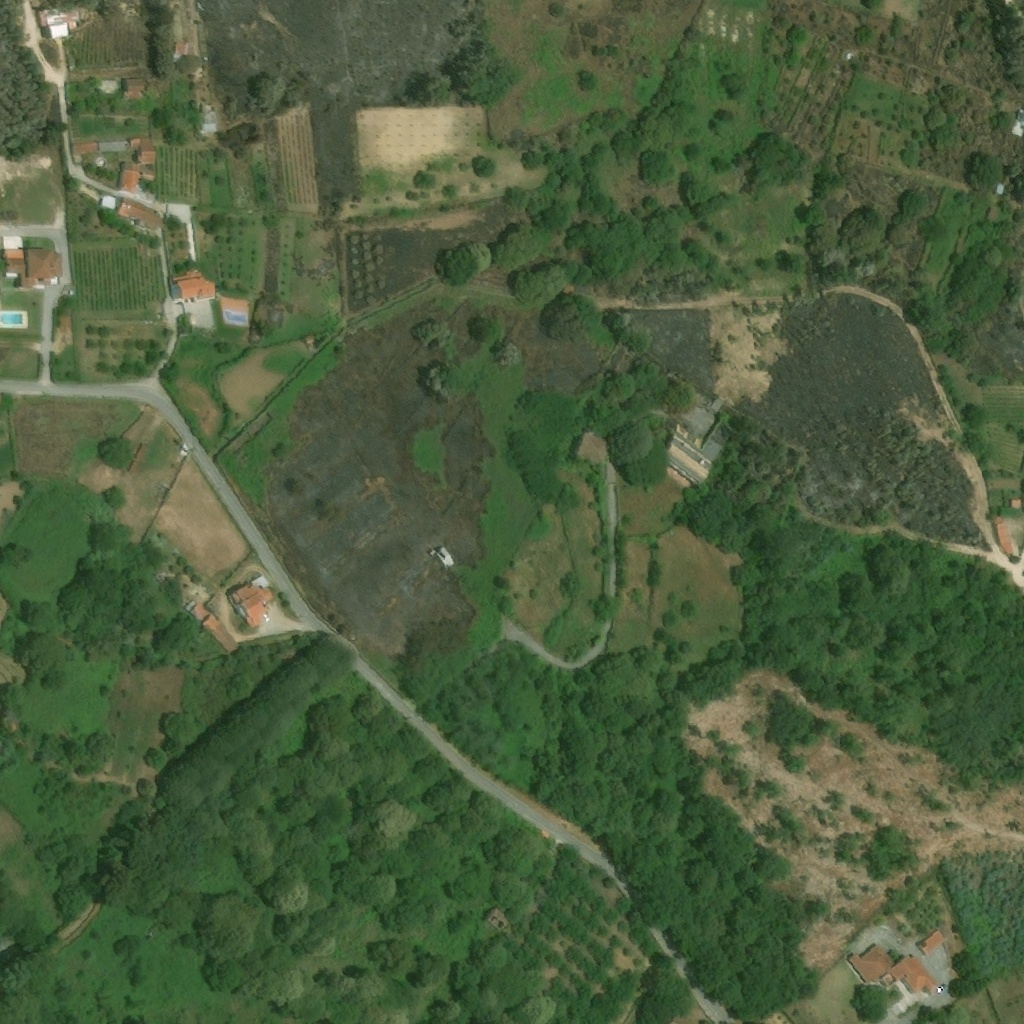0 no-damage: (655, 418, 735, 487), (878, 953, 939, 994), (228, 574, 272, 628), (5, 249, 63, 288), (845, 941, 894, 986), (168, 270, 216, 305), (200, 614, 240, 656), (38, 3, 81, 39), (118, 198, 164, 229), (574, 431, 610, 465), (992, 514, 1012, 558), (118, 161, 141, 192), (199, 99, 218, 136), (918, 929, 945, 955), (138, 137, 156, 164), (435, 546, 456, 569), (123, 78, 147, 98), (71, 138, 100, 153), (98, 137, 126, 151), (189, 603, 209, 621), (1010, 111, 1023, 138), (99, 80, 119, 94), (985, 207, 1000, 223), (101, 194, 117, 209), (708, 398, 723, 413), (140, 166, 155, 180), (561, 281, 574, 297), (174, 42, 189, 55), (993, 183, 1005, 197), (184, 599, 196, 611), (539, 829, 550, 840), (1008, 500, 1020, 510), (131, 137, 141, 148), (305, 335, 315, 344), (553, 838, 564, 845), (844, 52, 852, 60)
3 destroyed: (484, 905, 508, 931), (36, 353, 44, 364)
4 un-classified: (151, 570, 172, 594)
